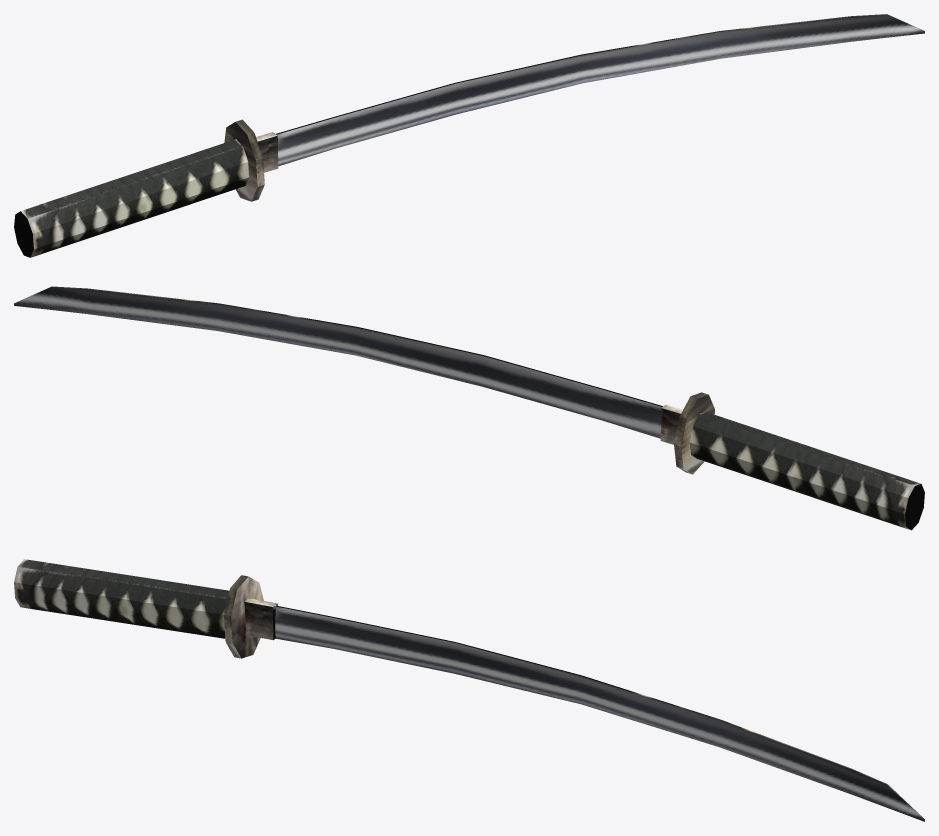
The model's file is katana.fbx.
The picture shows the model from 3 angles, top to bottom: view 1: azimuth 30°, elevation 25°; view 2: azimuth 150°, elevation 25°; view 3: azimuth 330°, elevation 25°; orthographic projection.
Visible parts, largest first — view 1: Cylinder; view 2: Cylinder; view 3: Cylinder.
Part boxes in pixels (<box>): Cylinder: <box>14,14,924,257</box>; Cylinder: <box>14,286,924,530</box>; Cylinder: <box>14,559,924,821</box>.
Size of the model in its own units: 593 by 51.15 by 37.67.
